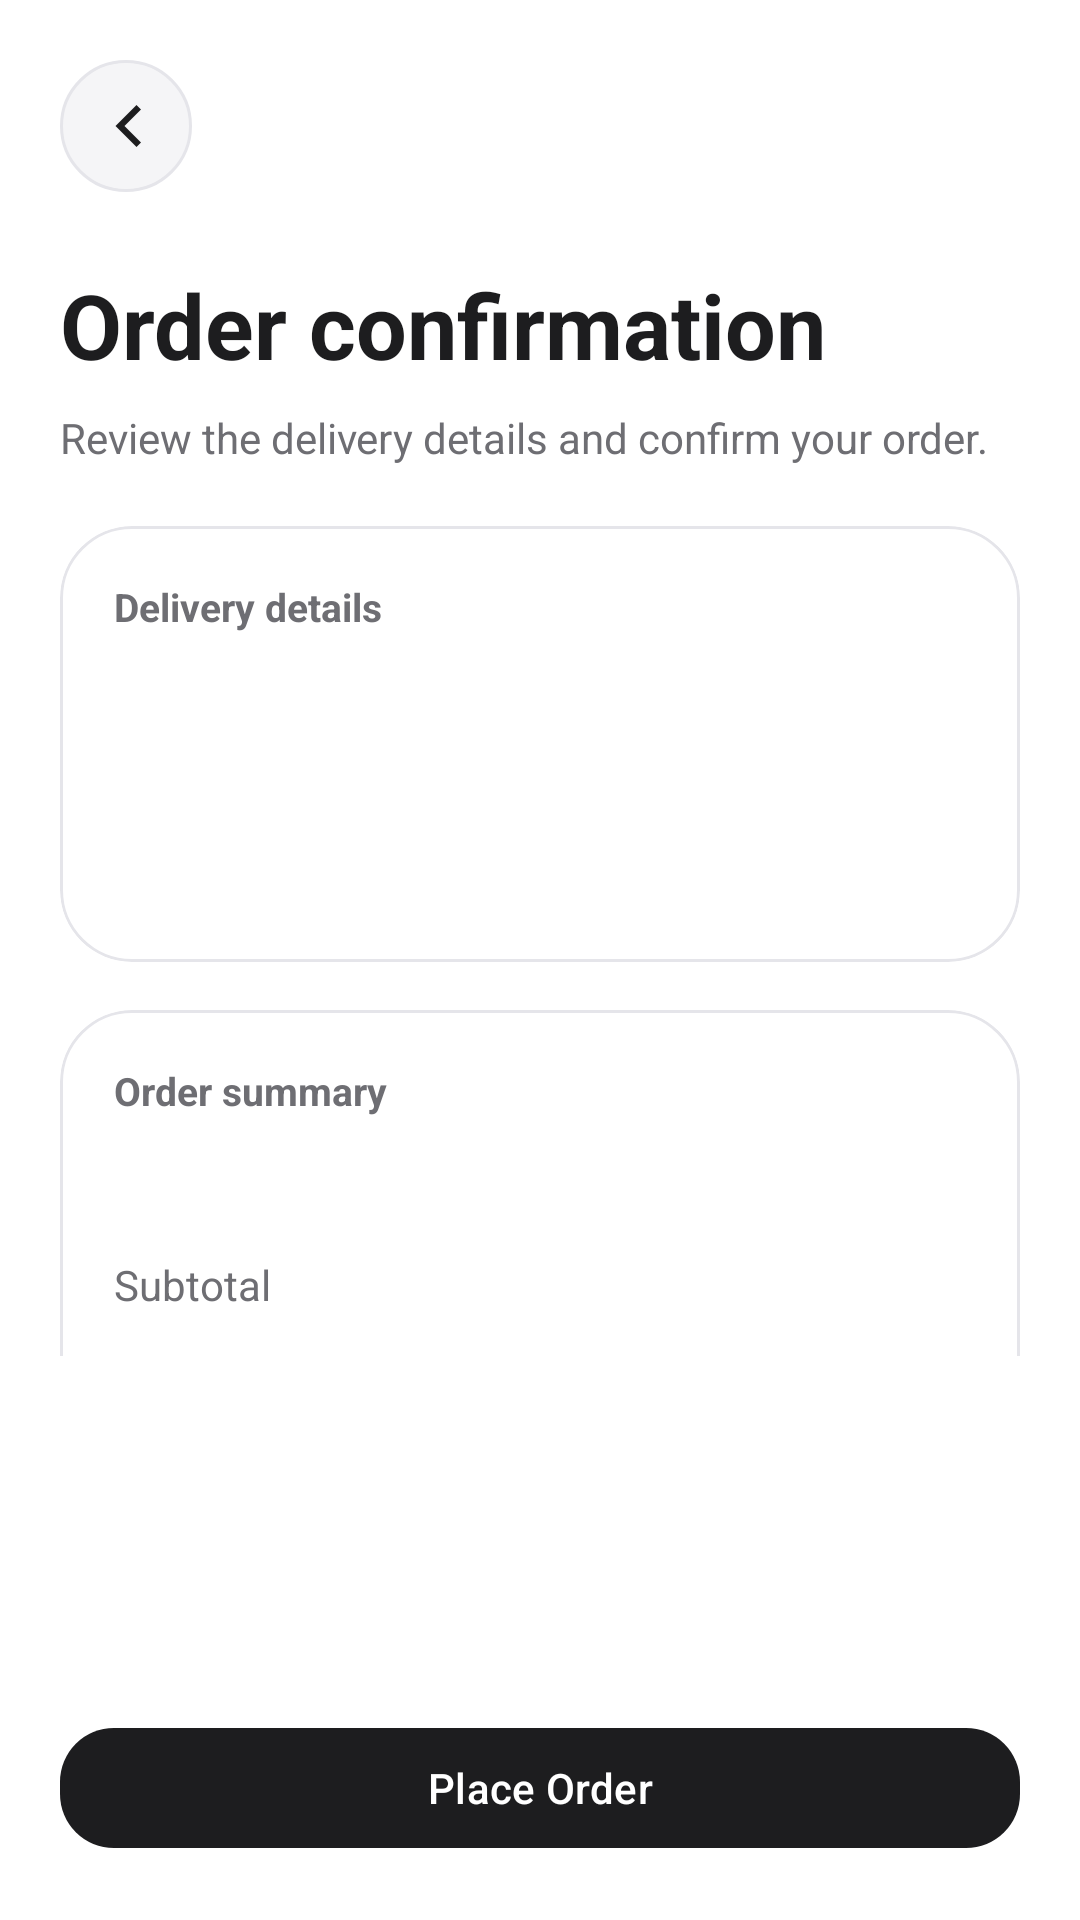

Named icons in this screenshot (1080 × 1920) and their centers, (x,y):
Back: (126,126)
